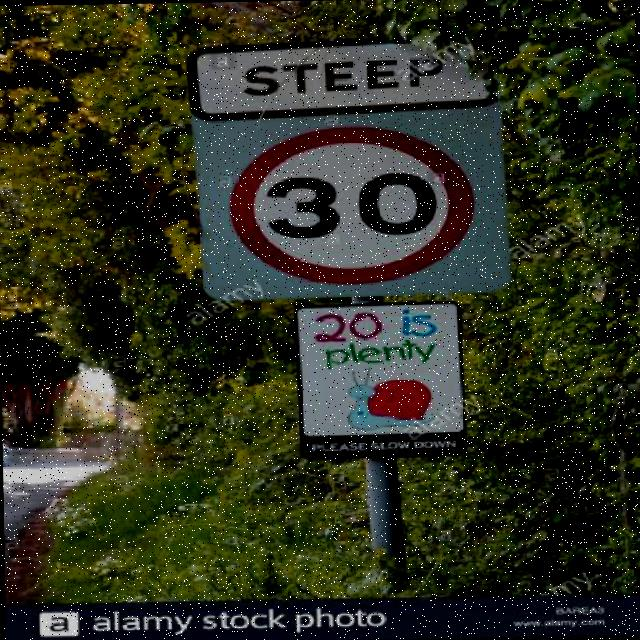Ograniczenie predkosci do 30: (228, 123, 471, 287)
